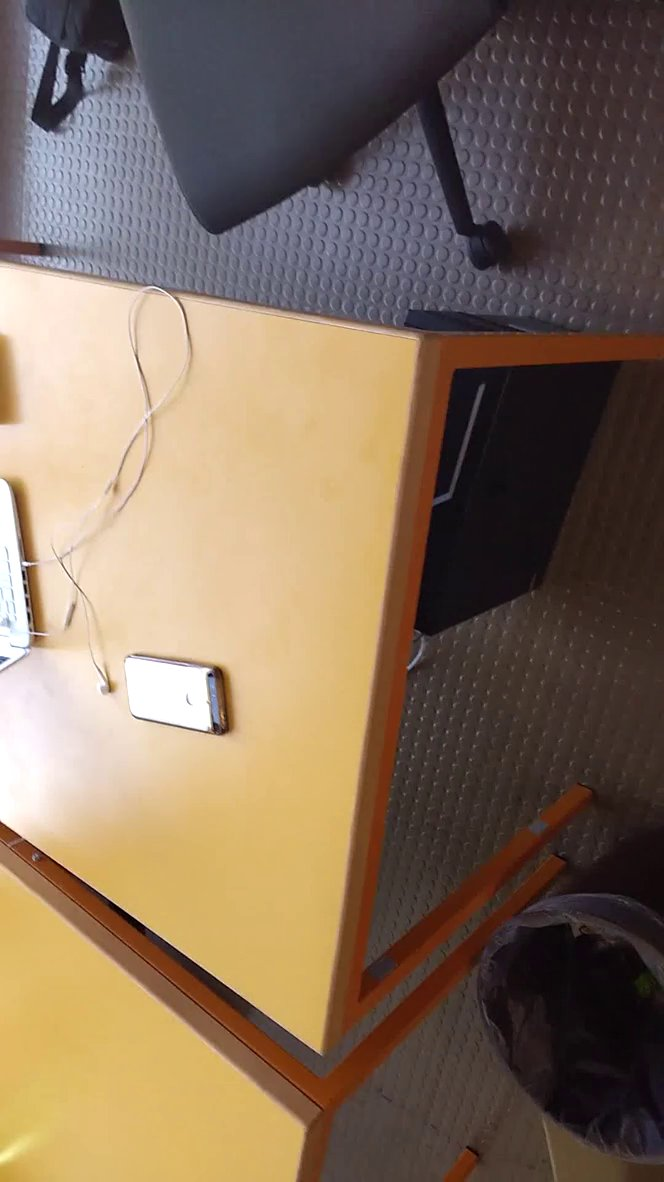phone: (112, 642, 252, 752)
